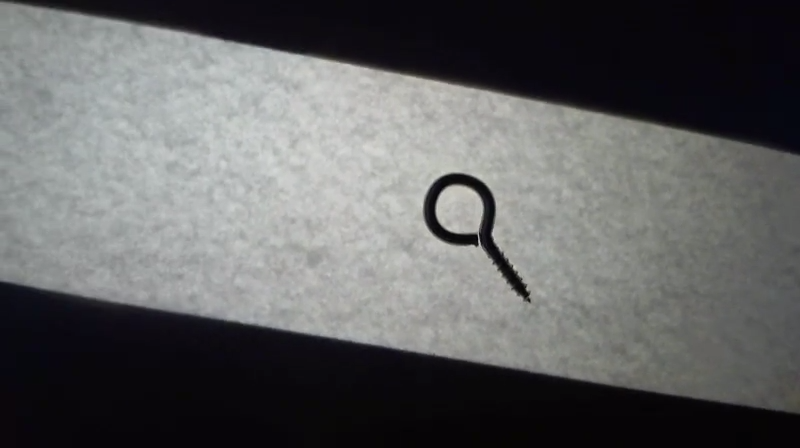O001: (420, 170, 532, 309)
